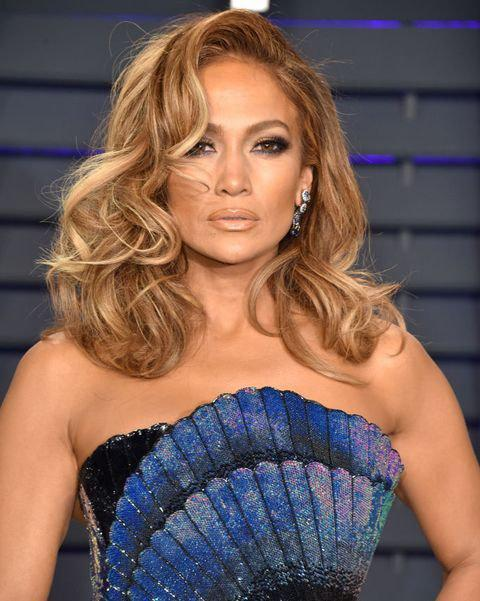Sober: (169, 67, 294, 246)
